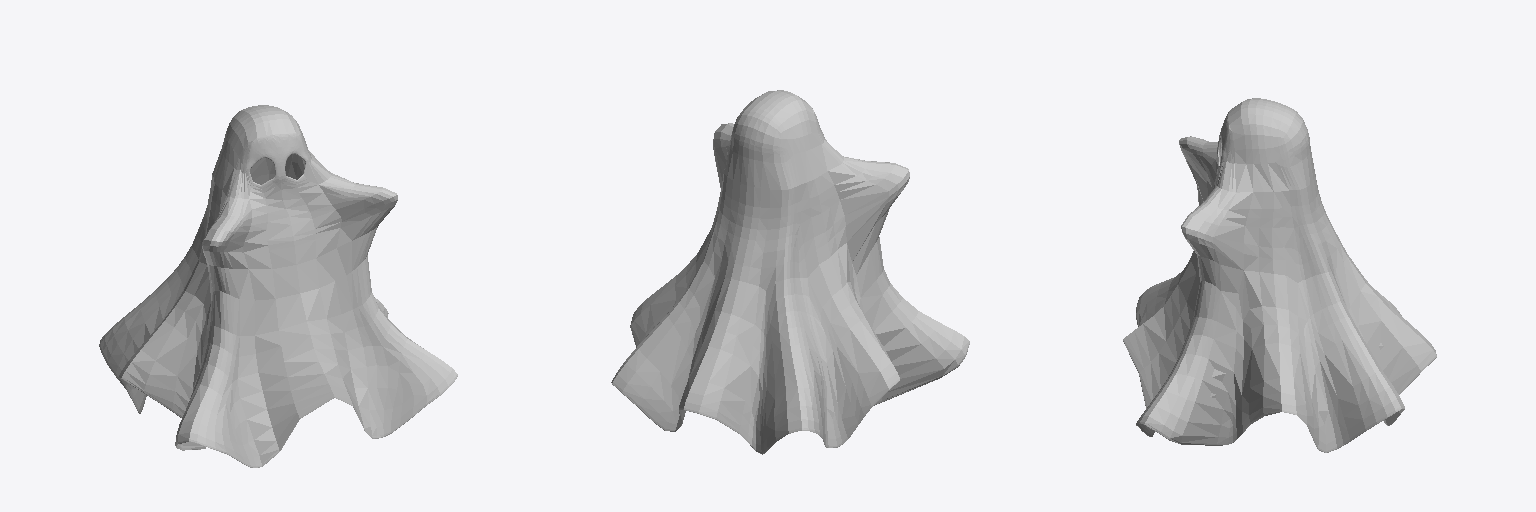
3 views of the same model, side by side, from view 1: azimuth 30°, elevation 25°; view 2: azimuth 150°, elevation 25°; view 3: azimuth 270°, elevation 25° (orthographic).
Parts seen in each view (by area): view 1: youlinguu2:Group3 walk1; view 2: youlinguu2:Group3 walk1; view 3: youlinguu2:Group3 walk1.
Part boxes in pixels (left/top/right/bottom): youlinguu2:Group3 walk1: left=99, top=105, right=457, bottom=467; youlinguu2:Group3 walk1: left=611, top=90, right=969, bottom=454; youlinguu2:Group3 walk1: left=1123, top=98, right=1436, bottom=452.
Bounding box in the file's own units: 37.1 × 39.2 × 36.62.